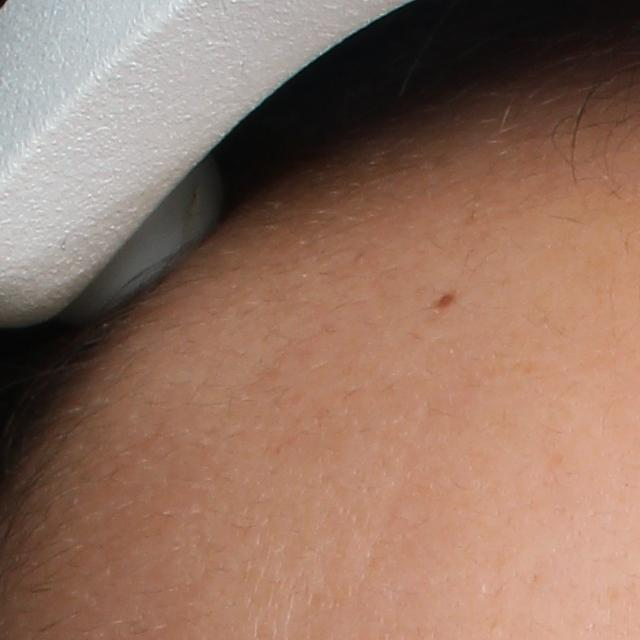nevus: (432, 284, 456, 310)
